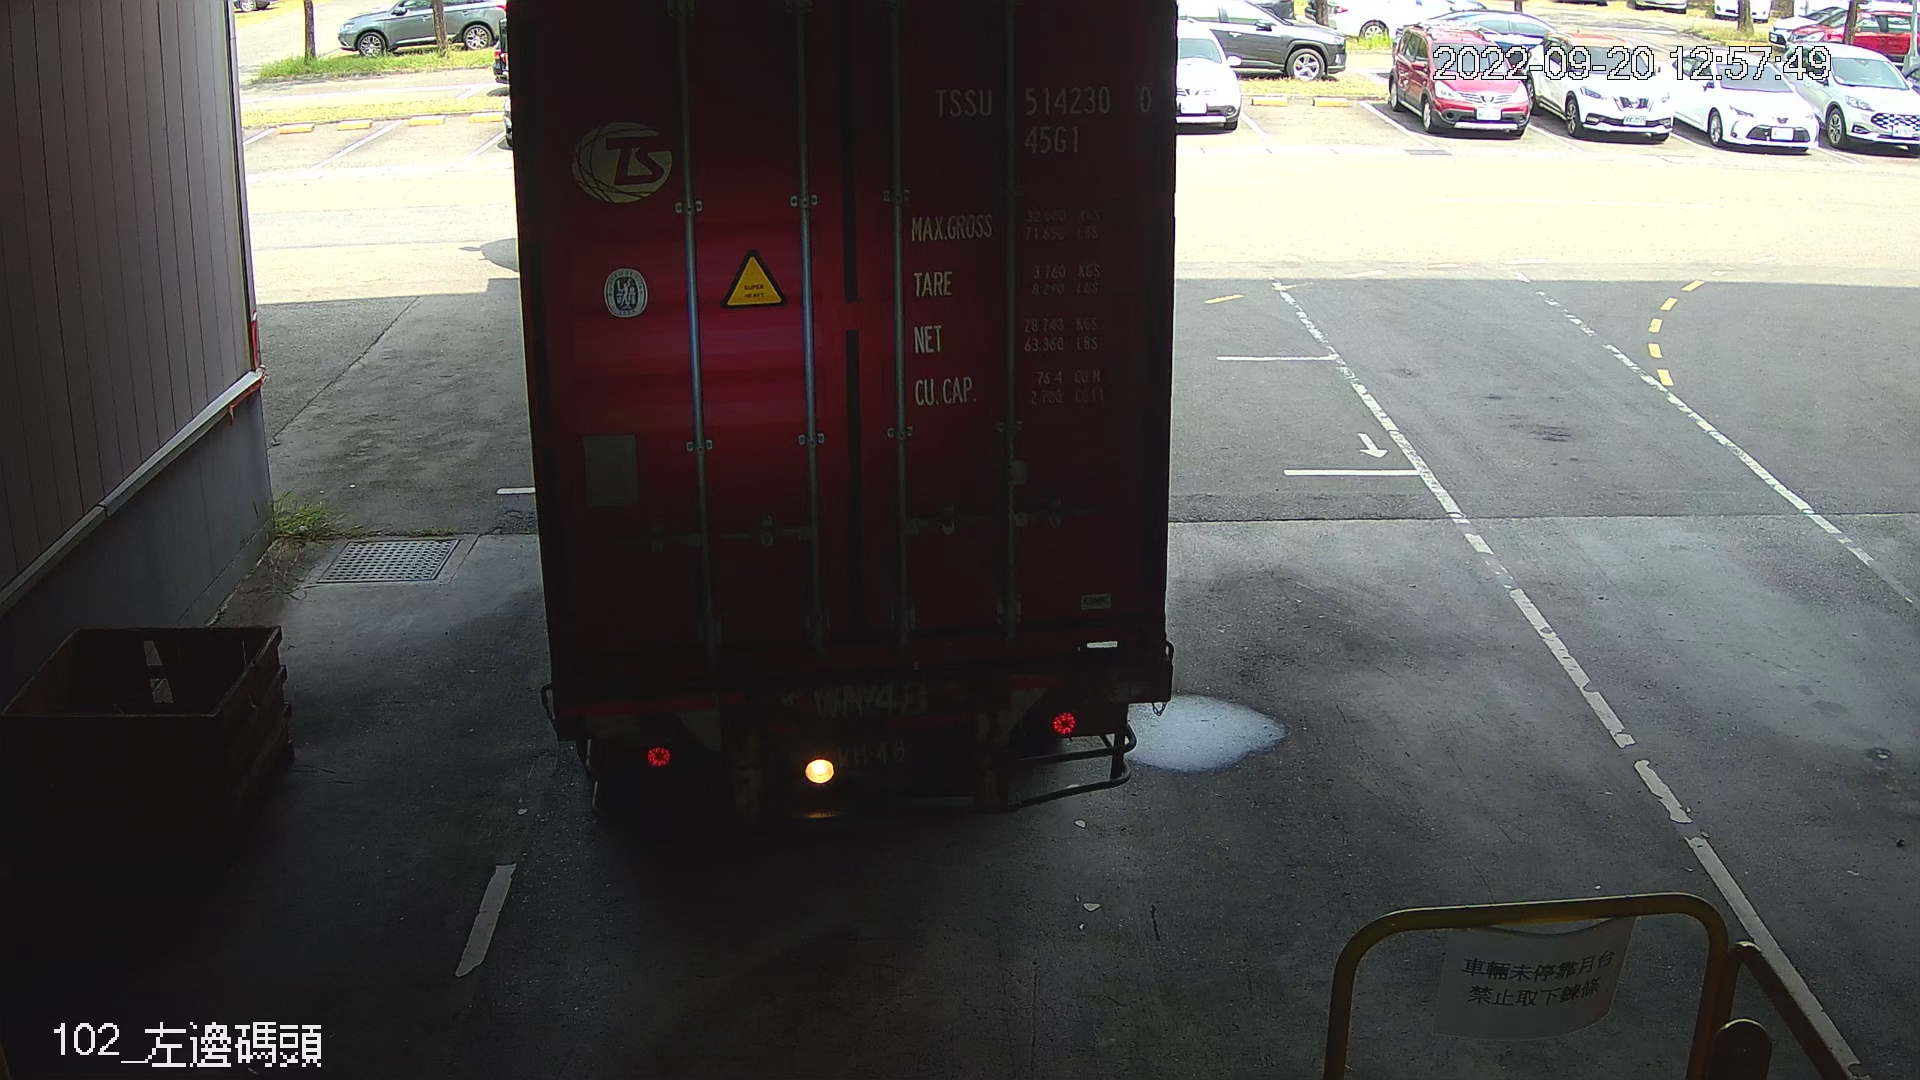container: (920, 73, 1167, 164)
